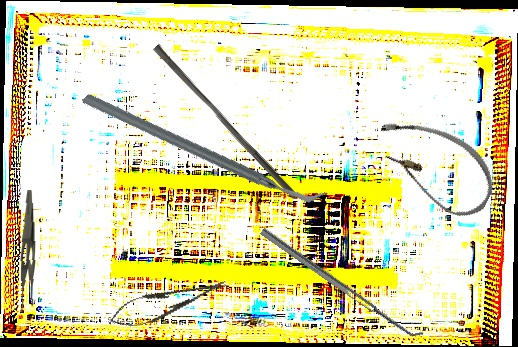Cannula: (360, 106, 507, 227)
Chopper: (80, 19, 328, 276)
Dressing Forceps: (12, 189, 40, 313)
Needle Holder: (104, 269, 231, 337)
Pusher: (147, 43, 305, 201)
Spatula Surgical: (259, 221, 426, 344)
